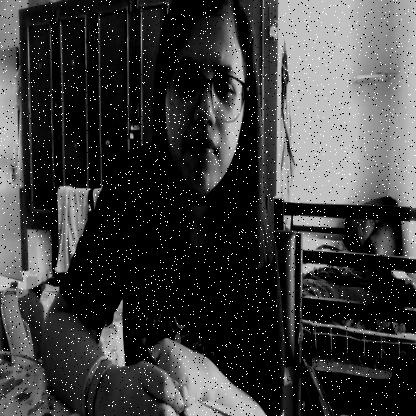Normal: (160, 0, 253, 206)
